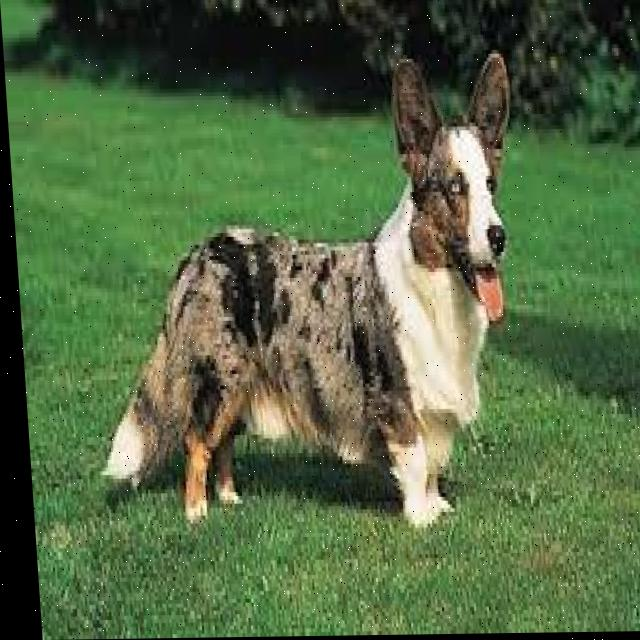CORGI: (82, 42, 559, 535)
